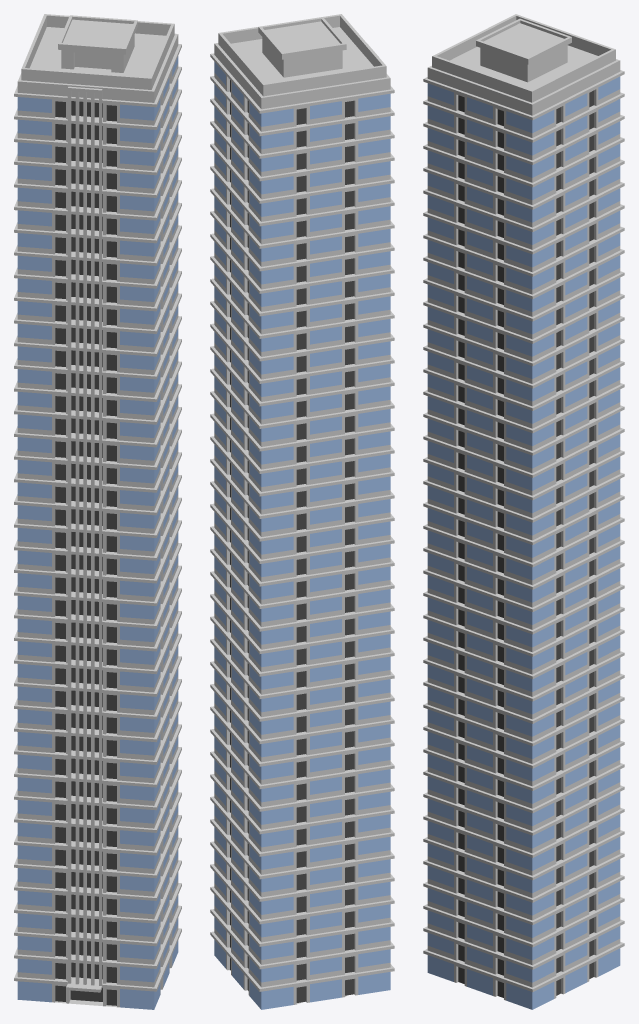
File: Skyscraper4.fbx
3 renders of one model, left to right at view 1: azimuth 30°, elevation 25°; view 2: azimuth 150°, elevation 25°; view 3: azimuth 270°, elevation 25°, orthographic.
Visible parts, largest first — view 1: Mesh1 __________3_1 Model; view 2: Mesh1 __________3_1 Model; view 3: Mesh1 __________3_1 Model.
Boxes of the visible parts, left/top/right/bottom form: Mesh1 __________3_1 Model: left=14, top=14, right=181, bottom=1009; Mesh1 __________3_1 Model: left=210, top=14, right=394, bottom=1009; Mesh1 __________3_1 Model: left=423, top=14, right=624, bottom=1009.
Bounding box in the file's own units: 261 × 1332 × 261.
